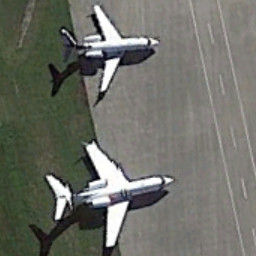Airplane: (24, 138, 188, 252), (41, 2, 166, 106)
